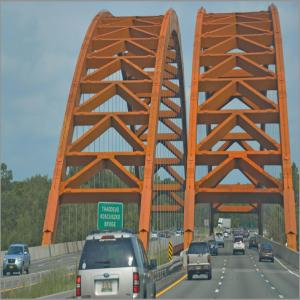Vehicle-registration-plate: (102, 282, 114, 293)
